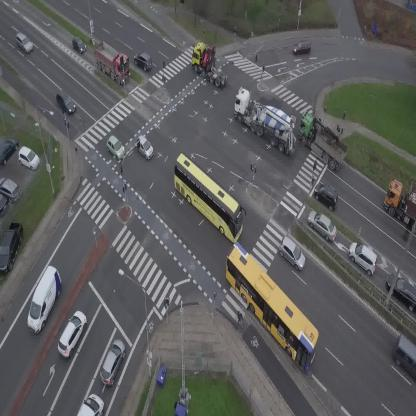bicycle: (234, 310, 244, 330)
bus: (208, 240, 332, 372), (159, 151, 257, 244)
car: (52, 308, 91, 359), (96, 337, 130, 387), (343, 238, 385, 277), (302, 206, 342, 244), (273, 235, 312, 272), (308, 178, 345, 213), (394, 334, 416, 378), (102, 134, 129, 161), (131, 134, 158, 160), (52, 89, 78, 116), (131, 48, 157, 73), (11, 31, 35, 55), (67, 34, 89, 56), (294, 40, 312, 53)
lorry: (222, 85, 310, 158), (289, 109, 355, 173), (19, 264, 69, 335), (183, 36, 240, 90), (85, 36, 139, 87), (384, 178, 416, 233), (77, 394, 104, 416)
